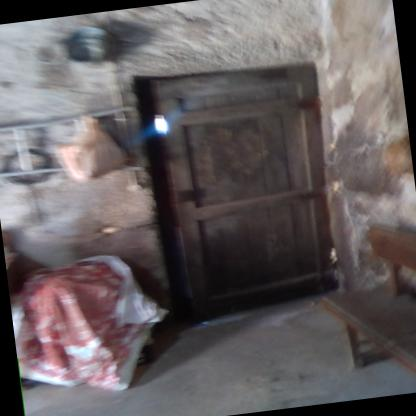closed: (117, 29, 366, 336)
